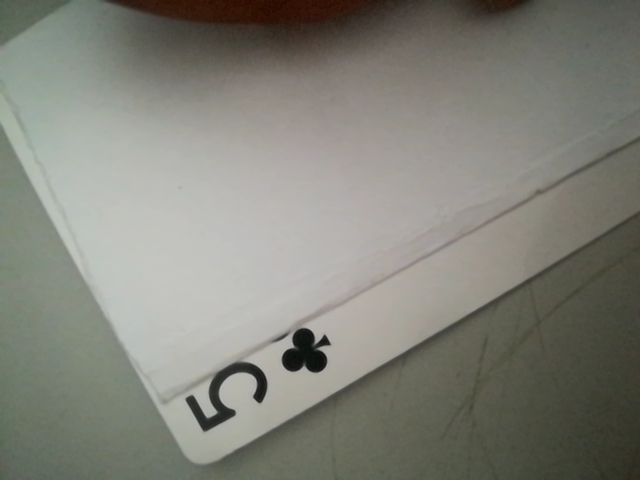mh 5: (177, 319, 342, 448)
